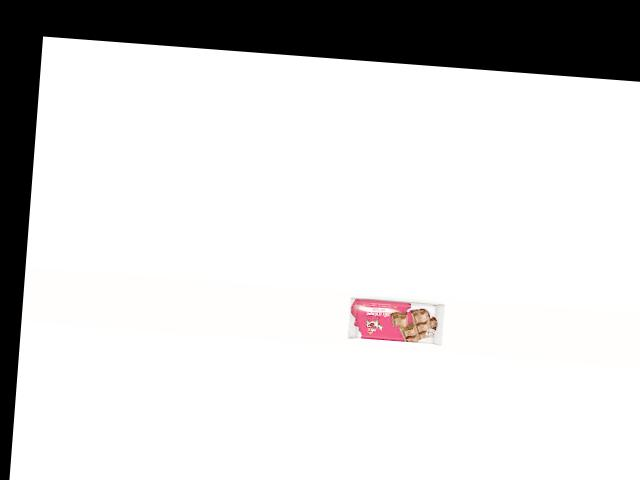chocolate: (344, 289, 447, 348)
